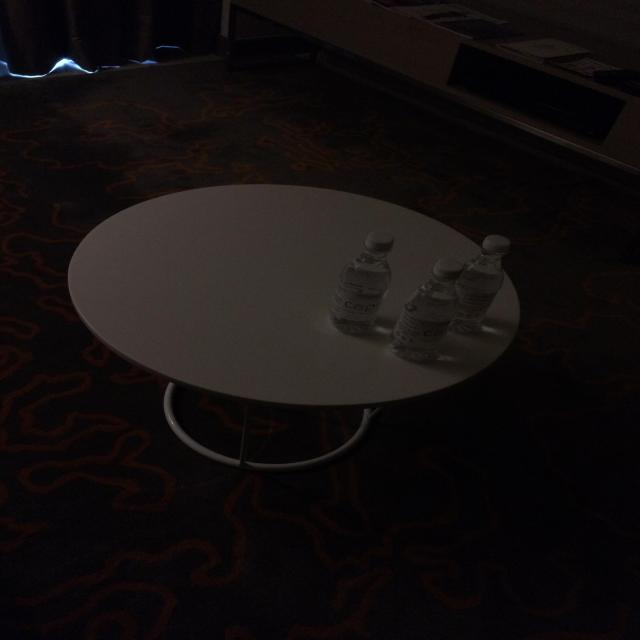Bottle: (278, 202, 422, 358), (453, 218, 571, 348), (378, 249, 479, 383)
Table: (18, 159, 560, 526)
